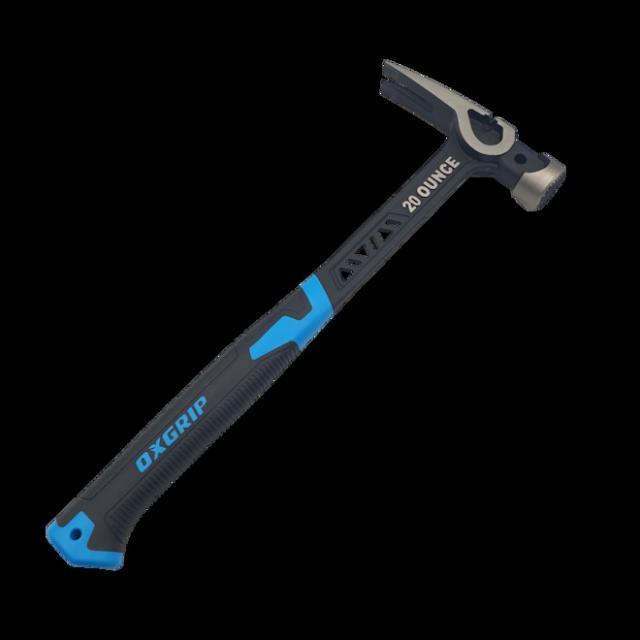hammer: (37, 49, 573, 580)
